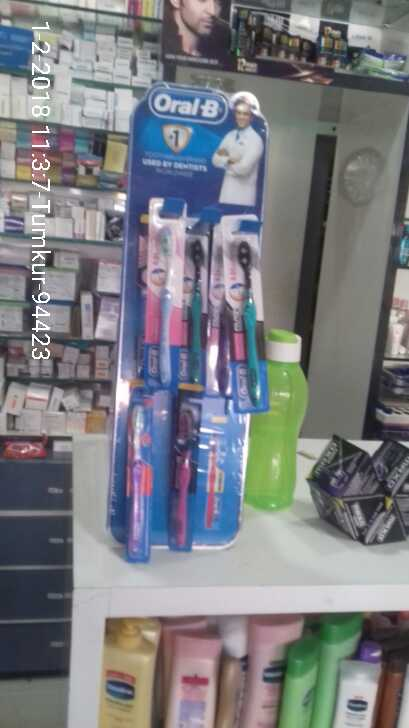oralb: (238, 232, 265, 404), (151, 222, 176, 395), (124, 412, 147, 555)
